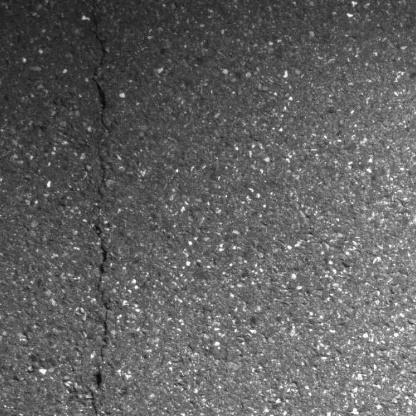Cracks: (88, 0, 116, 416)
